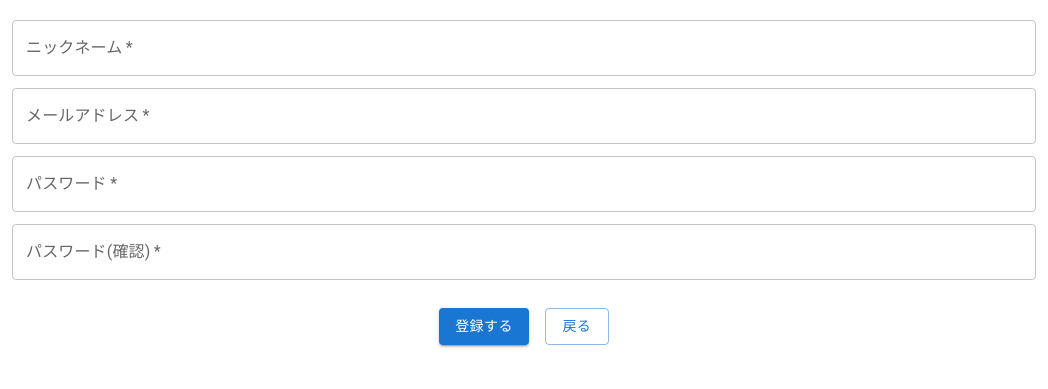
SignupForm › validation message is displayed if no email is entered
Type "user" into the field labelled "ニックネーム" at (524, 48), box [12,20,1036,76]
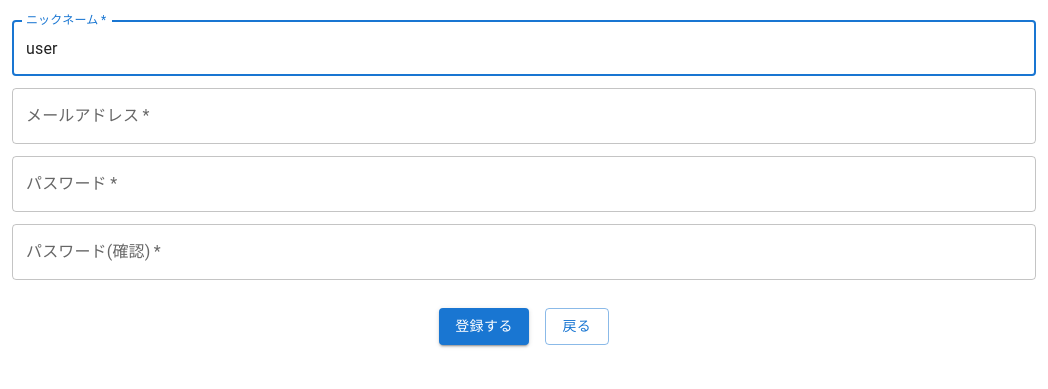
Type "password" into the password field with test id "password" at (524, 184), box [12,156,1036,212]
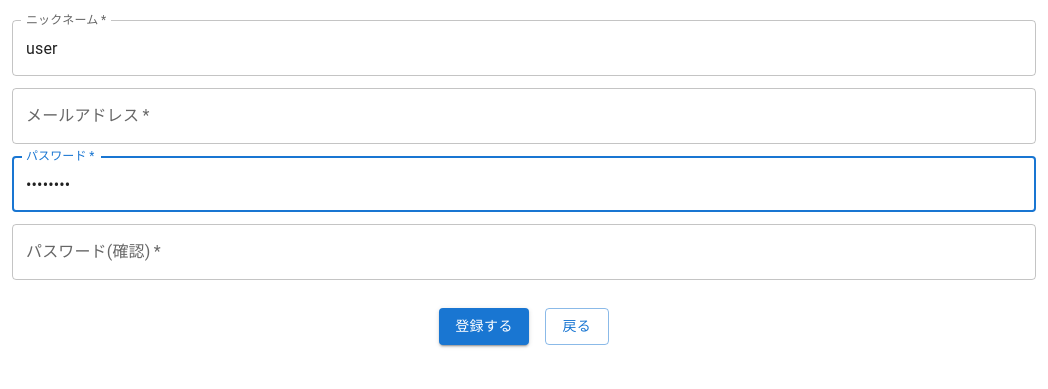
Type "password" into the password field with test id "password-confirmation" at (524, 252), box [12,224,1036,280]
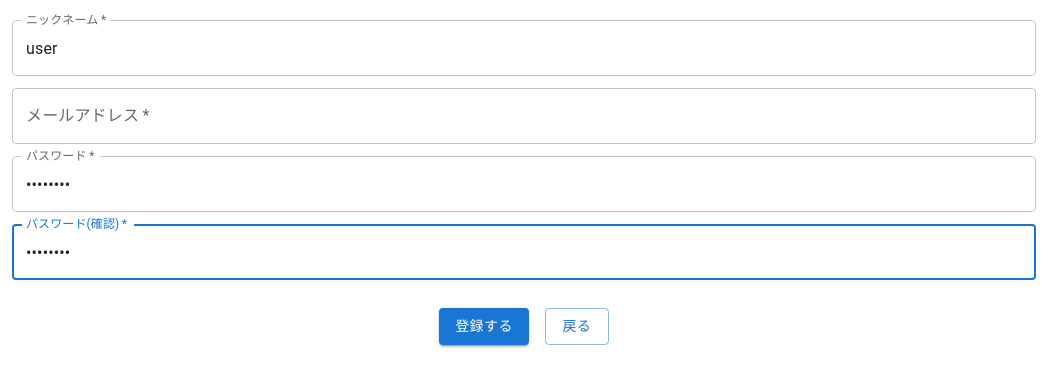
Click the button "登録する" at (484, 326), box [439,308,529,344]
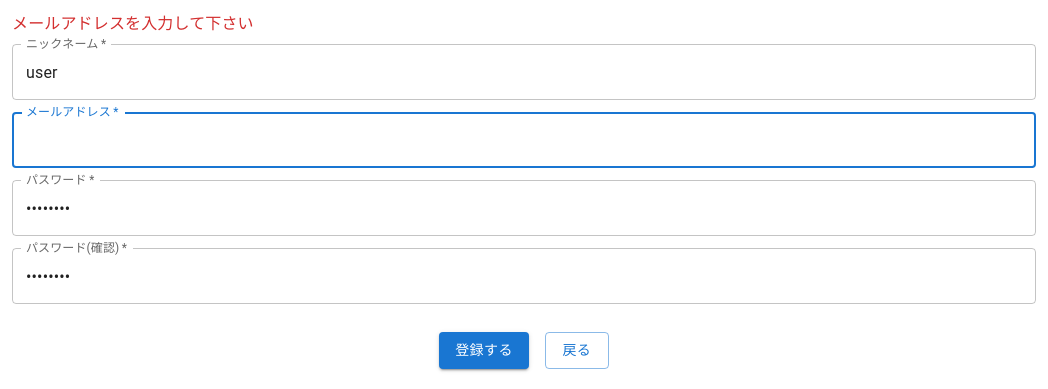
Check: the text "メールアドレスを入力して下さい" is shown, box [12,14,254,33]
